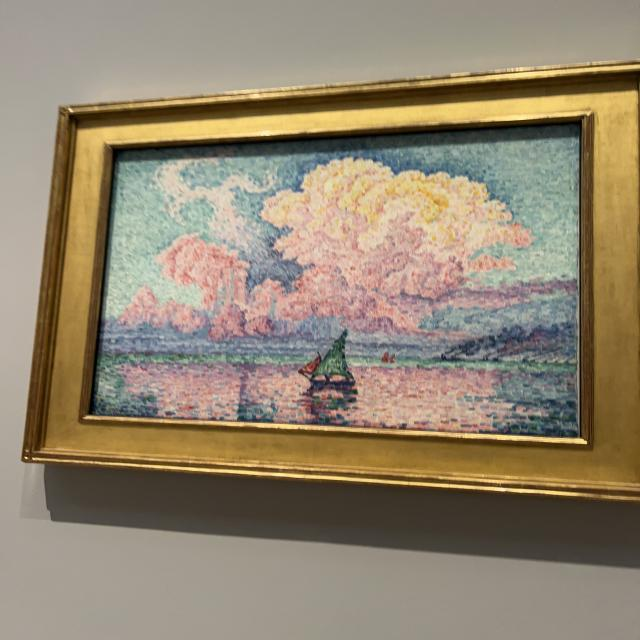sunrise: (96, 126, 579, 434)
